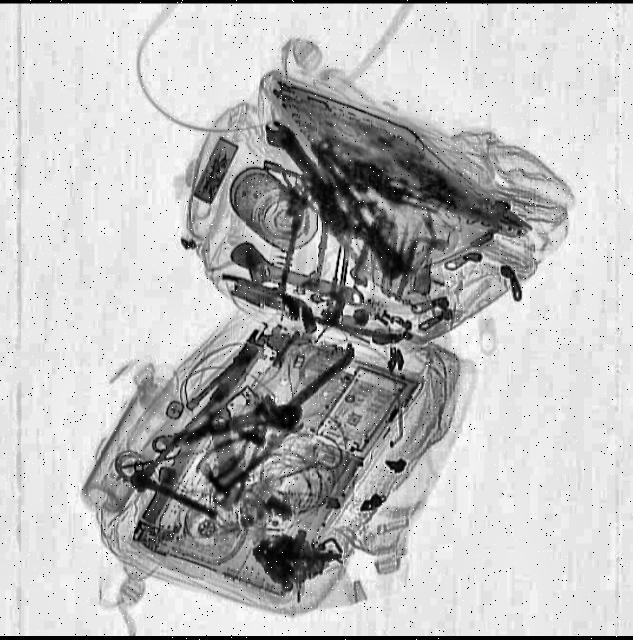Pliers: (192, 414, 271, 500)
Wrench: (148, 387, 308, 472), (224, 242, 370, 322), (199, 408, 250, 517), (260, 116, 330, 194)
